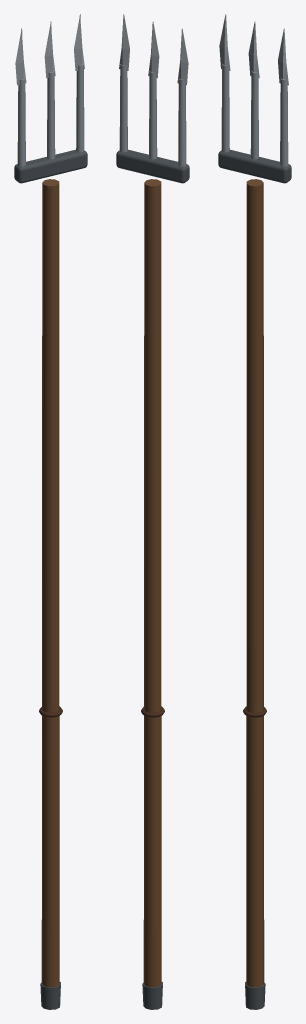
File: trident.glb
The picture shows the model from 3 angles, left to right: view 1: azimuth 30°, elevation 25°; view 2: azimuth 150°, elevation 25°; view 3: azimuth 330°, elevation 25°; orthographic projection.
Visible parts, largest first — view 1: trident-shaft, trident-prong-shaft (×3), trident-collar, trident-prong (×3), trident-butt-cap; view 2: trident-shaft, trident-prong-shaft (×3), trident-collar, trident-prong (×3), trident-butt-cap; view 3: trident-shaft, trident-prong-shaft (×3), trident-collar, trident-prong (×3), trident-butt-cap.
Boxes of the visible parts, left/top/right/bottom form: trident-shaft: left=41, top=179, right=59, bottom=987; trident-prong-shaft (×3): left=17, top=64, right=84, bottom=166; trident-collar: left=14, top=149, right=87, bottom=183; trident-prong (×3): left=15, top=14, right=84, bottom=85; trident-butt-cap: left=40, top=982, right=60, bottom=1009; trident-shaft: left=143, top=179, right=161, bottom=987; trident-prong-shaft (×3): left=119, top=64, right=186, bottom=166; trident-collar: left=116, top=149, right=189, bottom=183; trident-prong (×3): left=119, top=14, right=188, bottom=85; trident-butt-cap: left=142, top=982, right=162, bottom=1009; trident-shaft: left=246, top=179, right=264, bottom=987; trident-prong-shaft (×3): left=221, top=64, right=288, bottom=166; trident-collar: left=218, top=149, right=291, bottom=183; trident-prong (×3): left=219, top=14, right=288, bottom=85; trident-butt-cap: left=245, top=982, right=265, bottom=1009.
Bounding box in the file's own units: 0.1027 × 1.38 × 0.0307.
